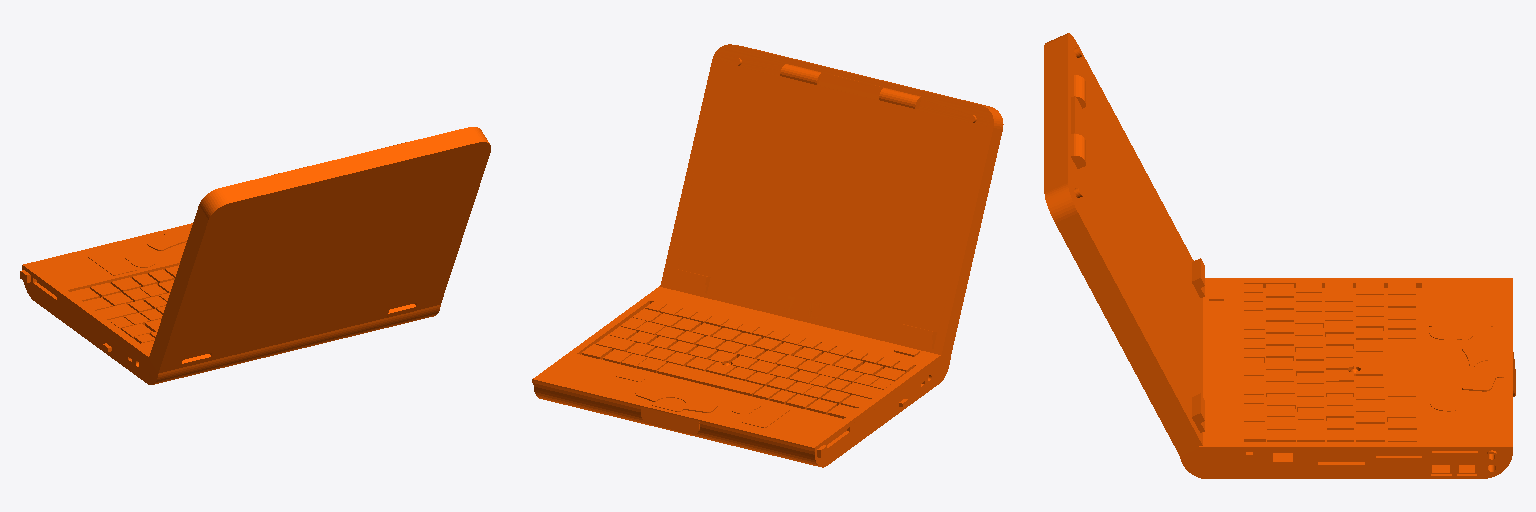
The robot description file, URDF, robot "Laptop_1de5cd20277cf5b9dd3d821abaa89276":
<?xml version="1.0" ?>
<robot name="Laptop_1de5cd20277cf5b9dd3d821abaa89276">
   <material name="obj_color">
      <color rgba="1.0 0.423529411765 0.0392156862745 1.0"/>
   </material>
   <link name="top">
      <inertial>
         <origin rpy="0.001095931347888502 0.001228668757171865 0.002014571542740898" xyz="-0.000762799089028156 0.0009157834573169342 0.008956619577528665"/>
         <mass value="0.7327753432989209"/>
         <inertia ixx="0.00122858315492756" ixy="-2.263363174345049e-06" ixz="2.775791132226738e-06" iyy="0.001361802364114394" iyz="0.0004165273746571651" izz="0.001748786128759312"/>
      </inertial>
      <visual>
         <origin rpy="0 0 0" xyz="0 0 0"/>
         <geometry>
            <mesh filename="top_watertight_tiny.stl" scale="1 1 1"/>
         </geometry>
         <material name="obj_color"/>
      </visual>
      <collision>
         <origin rpy="0 0 0" xyz="0 0 0"/>
         <geometry>
            <mesh filename="top_watertight_tiny.obj" scale="1 1 1"/>
         </geometry>
      </collision>
   </link>
   <link name="bottom">
      <inertial>
         <origin rpy="1.633333333199431e-08 1.633333333199431e-08 1.633333333362855e-08" xyz="0.3464080000000008 0.3464080000000008 0.3464080000000008"/>
         <mass value="0.0009800000000000017"/>
         <inertia ixx="1.633333333253906e-08" ixy="5.447480642029219e-19" ixz="5.447480642029219e-19" iyy="1.633333333253906e-08" iyz="5.447480642029219e-19" izz="1.633333333253906e-08"/>
      </inertial>
      <visual>
         <origin rpy="0 0 0" xyz="0 0 0"/>
         <geometry>
            <mesh filename="bottom_watertight_tiny.stl" scale="1 1 1"/>
         </geometry>
         <material name="obj_color"/>
      </visual>
   </link>
   <joint name="rotation" type="revolute">
      <origin xyz="0 0 0"/>
      <axis xyz="0 0 -1"/>
      <parent link="bottom"/>
      <child link="top"/>
      <dynamics damping="1.0" friction="1.0"/>
      <limit effort="0.1" velocity="0.1" lower="0" upper="0.001"/>
   </joint>
</robot>

--- What the picture shows (computed from the rendered views, not written in the file) ---
Views: 3 orthographic renders of the robot side by side, from view 1: azimuth 30°, elevation 25°; view 2: azimuth 150°, elevation 25°; view 3: azimuth 270°, elevation 25°.
Robot: Laptop_1de5cd20277cf5b9dd3d821abaa89276 — 2 links, 1 joints (1 revolute); root link bottom; default pose: every joint at zero.
Visible links, largest first — view 1: top; view 2: top; view 3: top.
Boxes of the visible links, x1=… form: top: x1=20, y1=127, x2=490, y2=384; top: x1=532, y1=44, x2=1003, y2=467; top: x1=1044, y1=33, x2=1515, y2=478.
Bounding box of the posed robot: 0.1258 × 0.1453 × 0.0971 m (x, y, z).
Meshes: 2 distinct files referenced, 1 mesh visuals loaded (1 binary STL); not drawn: 1 (reference not matched to a file when rendering).
